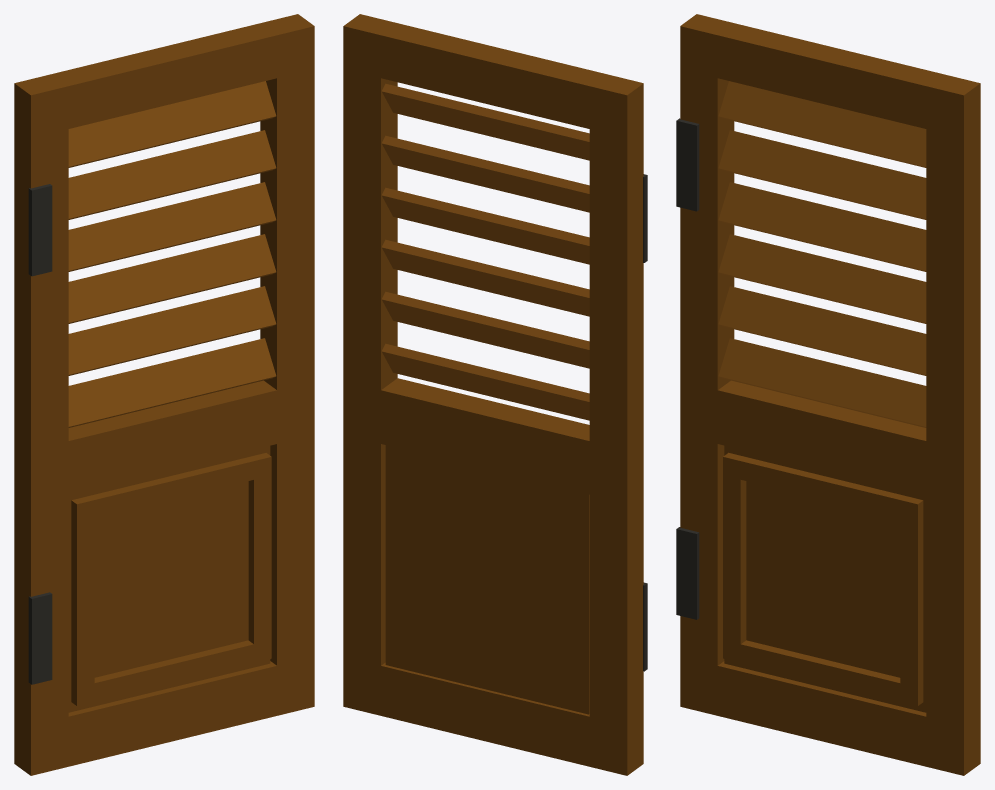
The model's file is SM_Wall_PhWindowShutter_Left_01.fbx.
3 renders of one model, left to right at view 1: azimuth 30°, elevation 25°; view 2: azimuth 150°, elevation 25°; view 3: azimuth 330°, elevation 25°, orthographic.
Parts seen in each view (by area): view 1: SM_Wall_PhWindowShutter_Left_01; view 2: SM_Wall_PhWindowShutter_Left_01; view 3: SM_Wall_PhWindowShutter_Left_01.
Part boxes in pixels (<box>): SM_Wall_PhWindowShutter_Left_01: <box>14,14,314,775</box>; SM_Wall_PhWindowShutter_Left_01: <box>343,14,647,775</box>; SM_Wall_PhWindowShutter_Left_01: <box>676,14,980,775</box>.
Bounding box in the file's own units: 0.417 × 0.951 × 0.048.
Materials: 1 (1 with a texture image).
